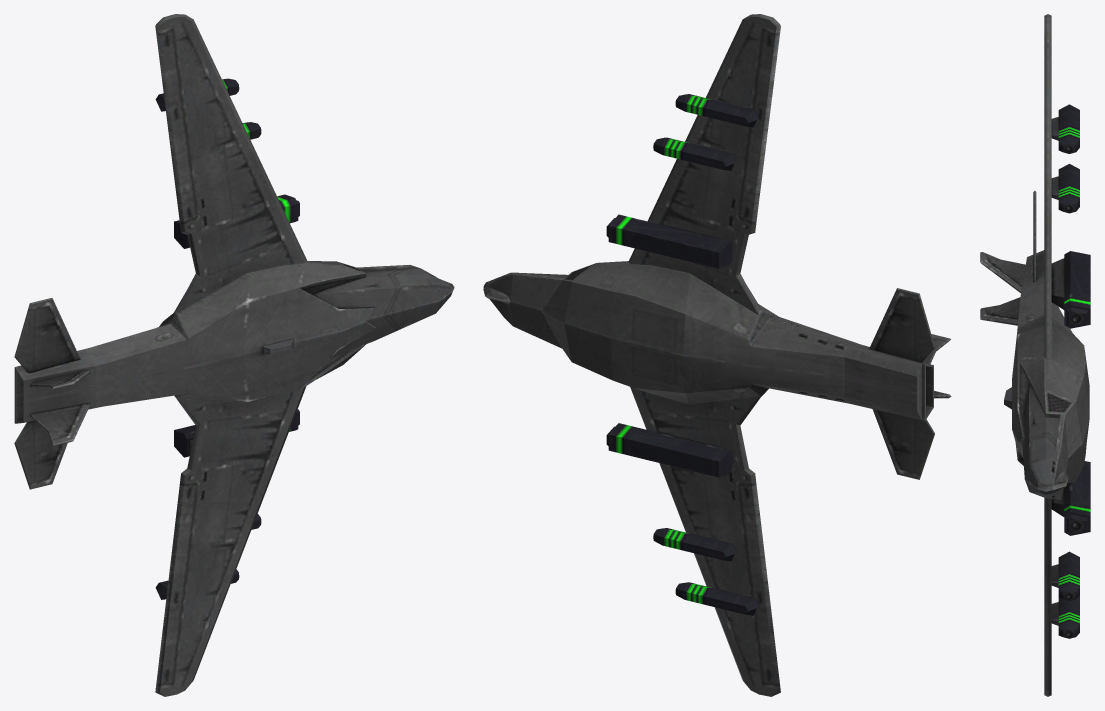
File: veh_t6_drone_cuav_LOD0.obj
3 views of the same model, side by side, from view 1: azimuth 30°, elevation 25°; view 2: azimuth 150°, elevation 25°; view 3: azimuth 270°, elevation 25° (orthographic).
Visible parts, largest first — view 1: mtl_veh_t6_cuav_drone; view 2: mtl_veh_t6_cuav_drone; view 3: mtl_veh_t6_cuav_drone.
Part boxes in pixels (box(x1,y1,x2,y2)): mtl_veh_t6_cuav_drone: box(14, 14, 454, 696); mtl_veh_t6_cuav_drone: box(483, 14, 951, 696); mtl_veh_t6_cuav_drone: box(980, 14, 1090, 696).
Bounding box in the file's own units: 730 × 1065 × 157.
